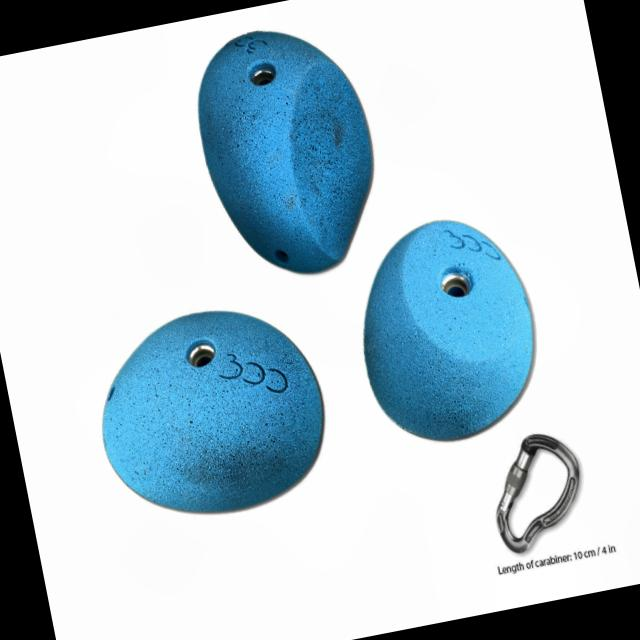Hold: (82, 291, 340, 534), (182, 11, 396, 289), (340, 204, 556, 456)
